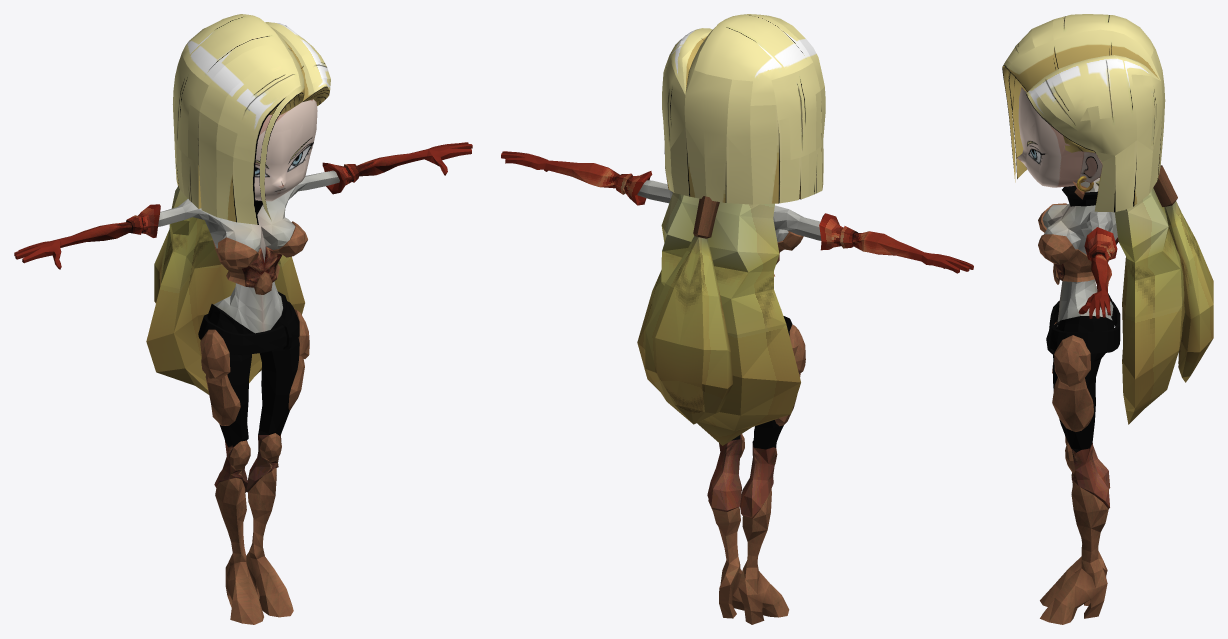
Rendered from evilsis-citadel-lod0.glb.
The picture shows the model from 3 angles, left to right: view 1: azimuth 30°, elevation 25°; view 2: azimuth 150°, elevation 25°; view 3: azimuth 270°, elevation 25°; orthographic projection. The views are drawn at different scales.
Parts seen in each view (by area): view 1: evilsis-village3-lod0, AEN_avt; view 2: evilsis-village3-lod0, AEN_avt; view 3: evilsis-village3-lod0, AEN_avt.
Boxes of the visible parts, box(x1,y1,x2,y2) form: evilsis-village3-lod0: box(14, 142, 472, 624); AEN_avt: box(173, 14, 330, 224); evilsis-village3-lod0: box(501, 151, 973, 624); AEN_avt: box(662, 14, 825, 204); evilsis-village3-lod0: box(1038, 165, 1213, 624); AEN_avt: box(1002, 14, 1165, 212).
Bounding box in the file's own units: 3.43 × 4.17 × 1.35.
Materials: 10 (10 with a texture image).
